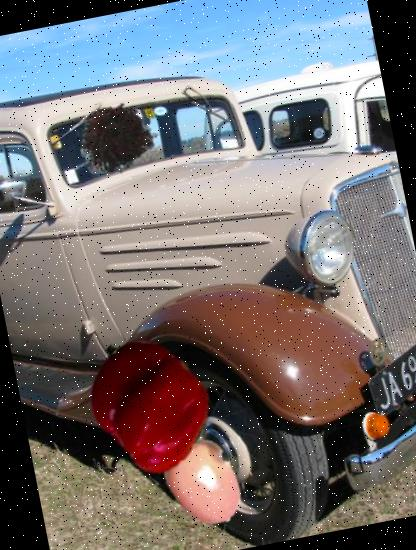Kaki: (150, 429, 258, 536)
Pepper: (72, 327, 224, 479)
Rambutan: (72, 92, 166, 186)
